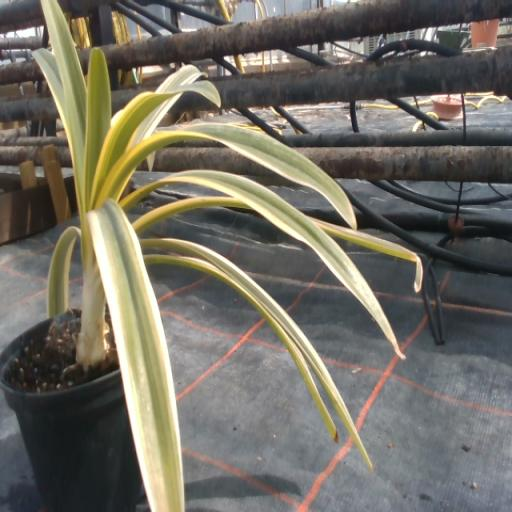Agapanthus-praecox: (120, 170, 404, 357), (141, 239, 372, 468), (146, 255, 337, 442), (88, 199, 183, 511), (94, 124, 357, 227), (93, 67, 219, 197), (41, 0, 86, 213), (310, 218, 422, 290), (134, 197, 248, 233), (85, 50, 110, 206), (47, 227, 80, 317), (128, 92, 182, 146), (33, 49, 67, 127), (156, 65, 201, 92), (147, 153, 154, 170)
